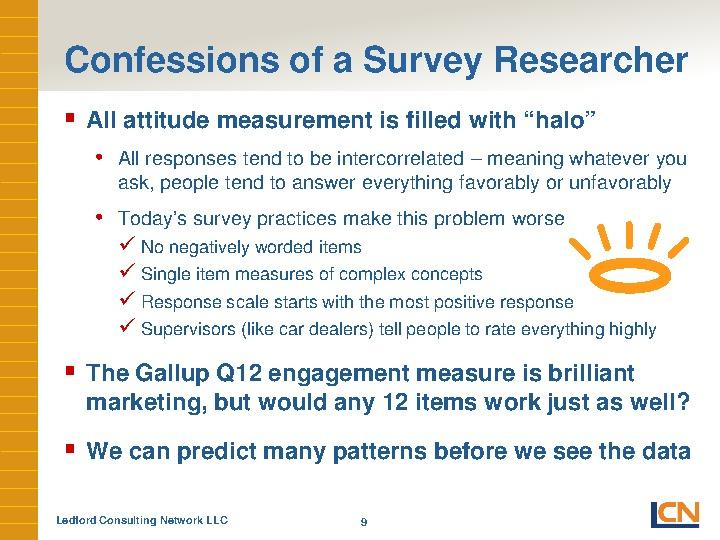paragraph: (53, 101, 707, 495)
subtitle: (51, 504, 244, 539)
title: (62, 31, 700, 96)
